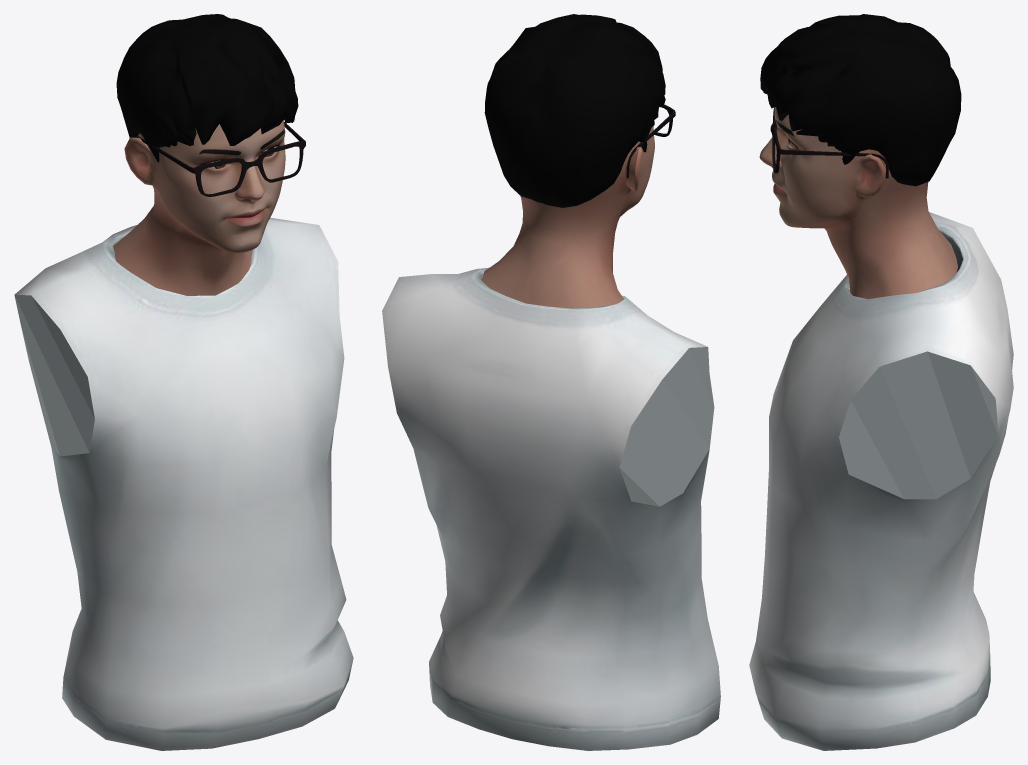
File: faisal_half.glb
3 views of the same model, side by side, from view 1: azimuth 30°, elevation 25°; view 2: azimuth 150°, elevation 25°; view 3: azimuth 270°, elevation 25° (orthographic).
Visible parts, largest first — view 1: Wolf3D_Outfit_Top, Wolf3D_Head, Wolf3D_Hair, Wolf3D_Glasses; view 2: Wolf3D_Outfit_Top, Wolf3D_Hair, Wolf3D_Head; view 3: Wolf3D_Outfit_Top, Wolf3D_Hair, Wolf3D_Head, Wolf3D_Glasses.
Boxes of the visible parts, bbox=[...] form: Wolf3D_Outfit_Top: bbox=[14, 217, 353, 750]; Wolf3D_Head: bbox=[113, 120, 285, 295]; Wolf3D_Hair: bbox=[116, 14, 298, 162]; Wolf3D_Glasses: bbox=[132, 121, 305, 196]; Wolf3D_Outfit_Top: bbox=[382, 267, 720, 750]; Wolf3D_Hair: bbox=[484, 14, 665, 207]; Wolf3D_Head: bbox=[481, 126, 654, 308]; Wolf3D_Outfit_Top: bbox=[749, 212, 1013, 750]; Wolf3D_Hair: bbox=[760, 14, 961, 186]; Wolf3D_Head: bbox=[759, 107, 957, 299]; Wolf3D_Glasses: bbox=[770, 107, 888, 178].
Bounding box in the file's own units: 0.3668 × 0.8218 × 0.2924.
5 materials, 5 textured.
